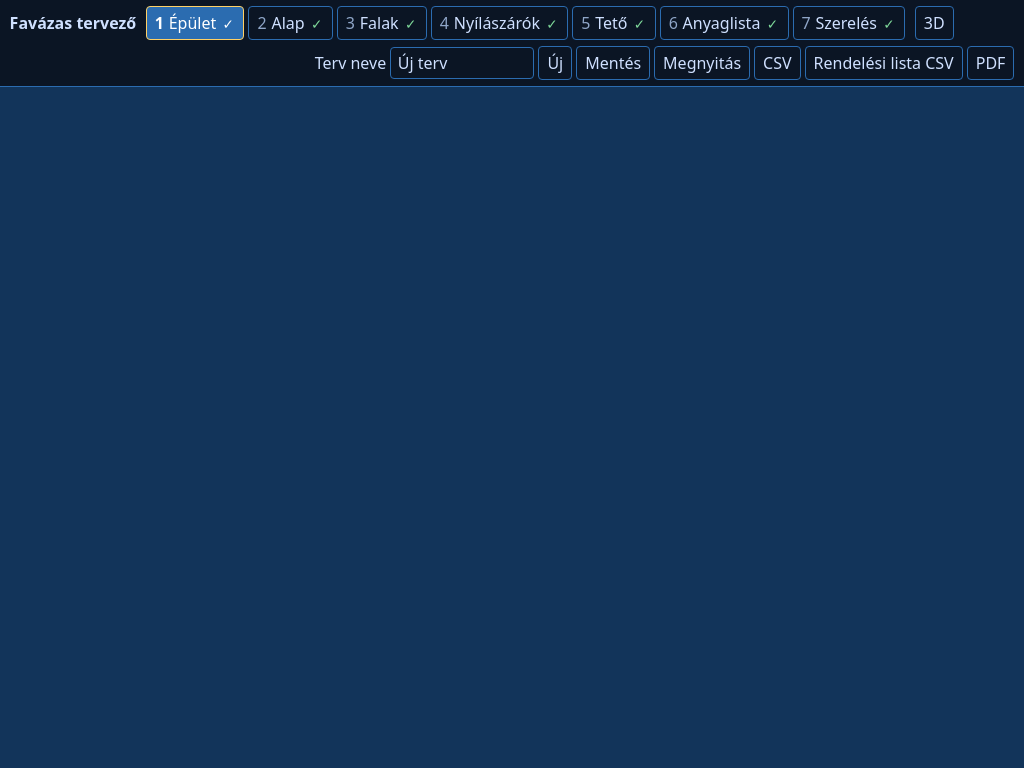
PDF export dialog › the explanations checkbox is disabled while materials is off
Click the button "PDF": coordinates (991, 63) [967, 46, 1014, 80]
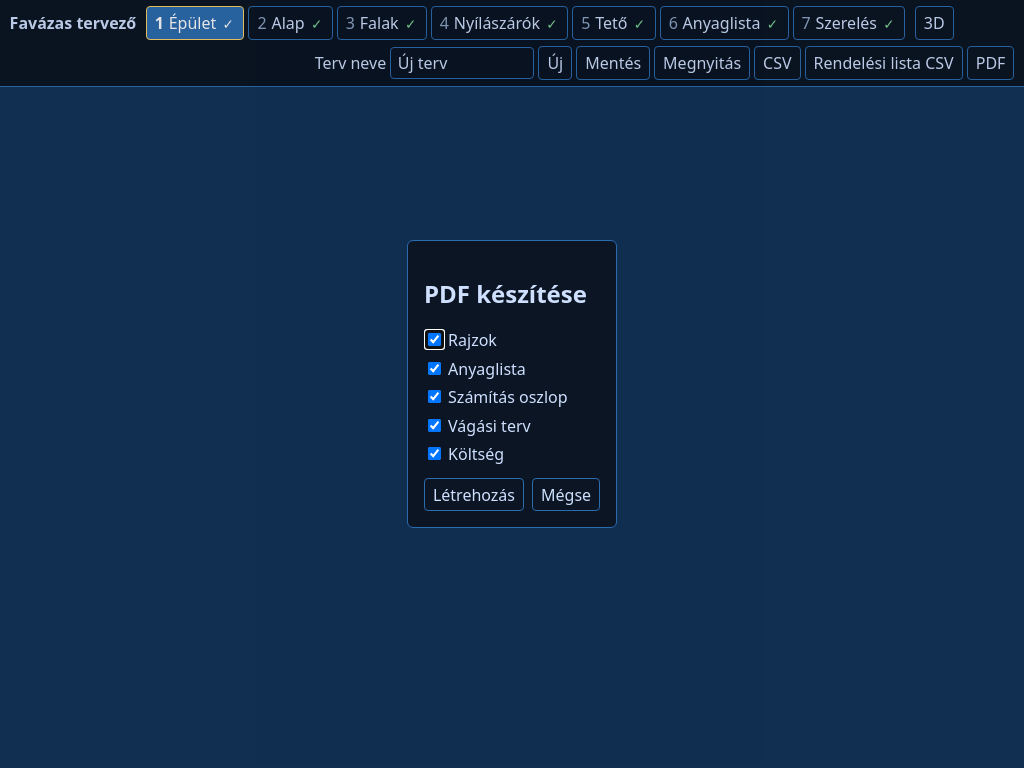
Click the checkbox named "materials": coordinates (434, 368) [428, 362, 441, 375]
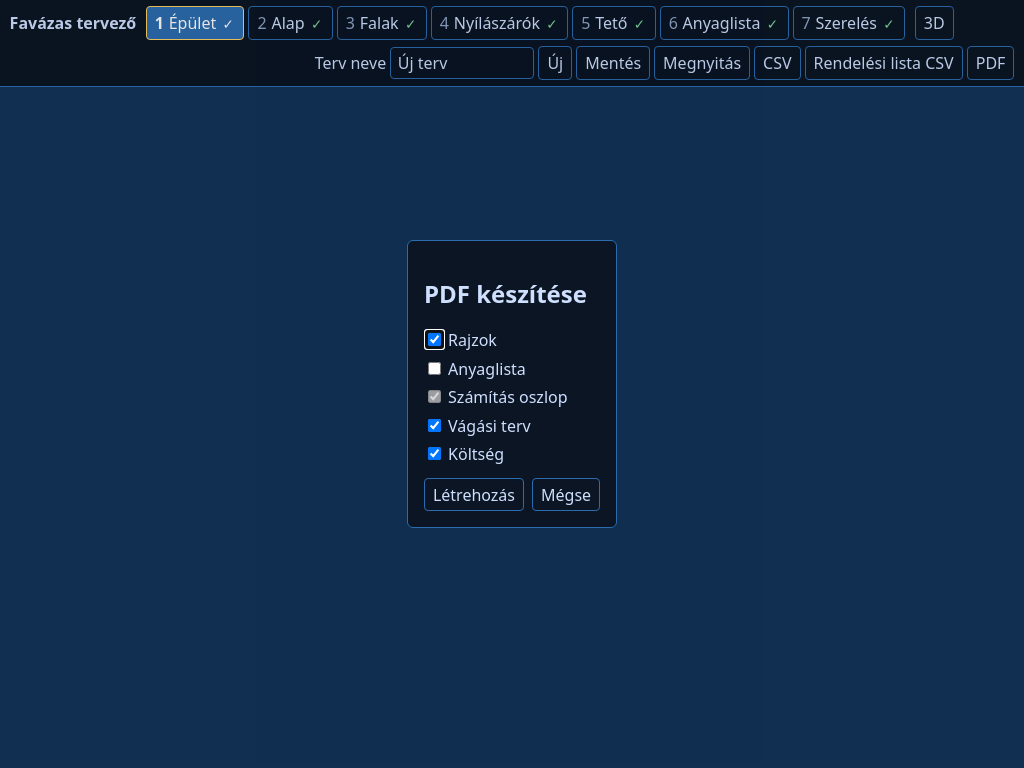
Expected: the checkbox named "materials" is not checked
Expected: the checkbox named "explanations" is disabled, [428, 390, 441, 403]
Click the checkbox named "materials": coordinates (434, 368) [428, 362, 441, 375]
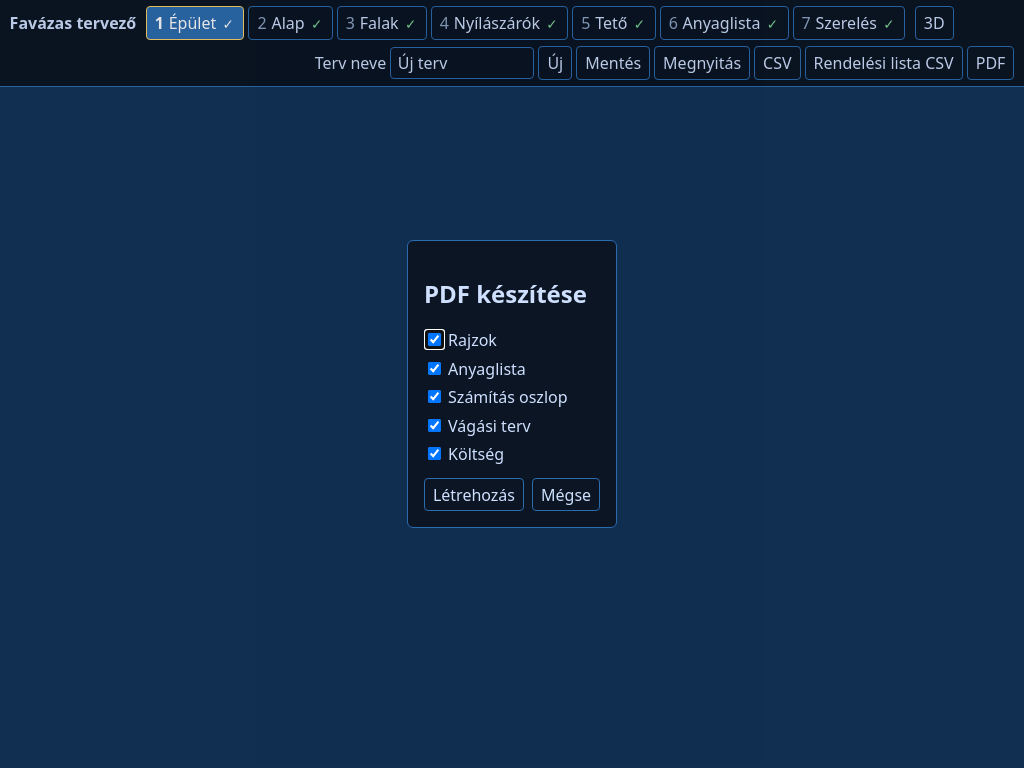
Expected: the checkbox named "explanations" is enabled, [428, 390, 441, 403]
